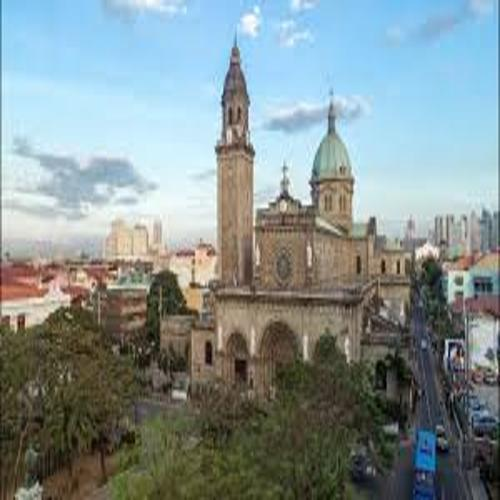Manila Cathedral Church: (173, 20, 384, 403)
